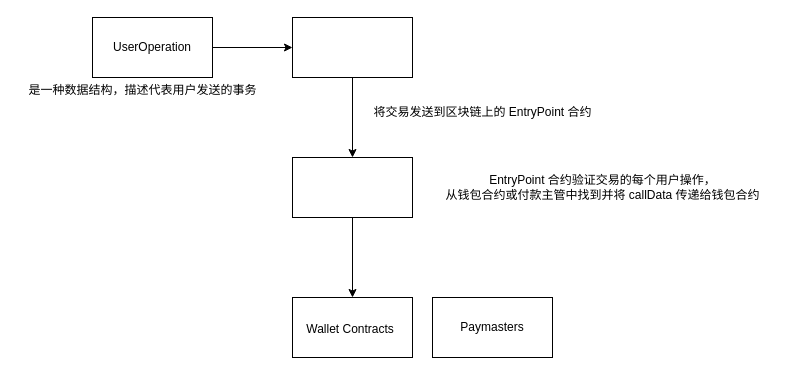
This 789x375 diagram has some shape labels left out. The centre of each missing label's shape, as x and y in pixels:
Bundlers: the point at 352,47
EntryPoint: the point at 352,187
